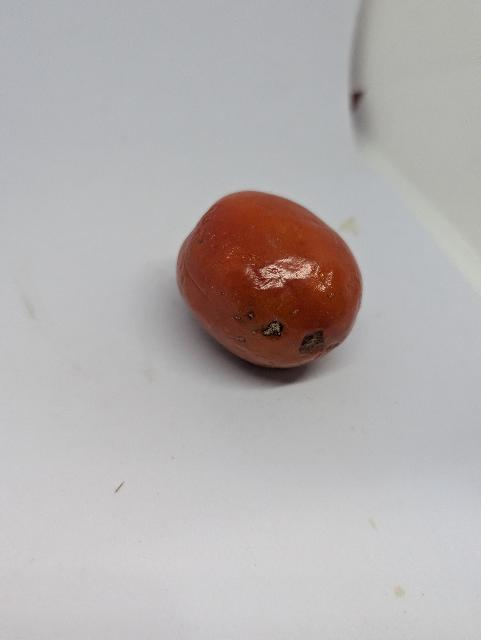defect: (172, 188, 365, 371)
